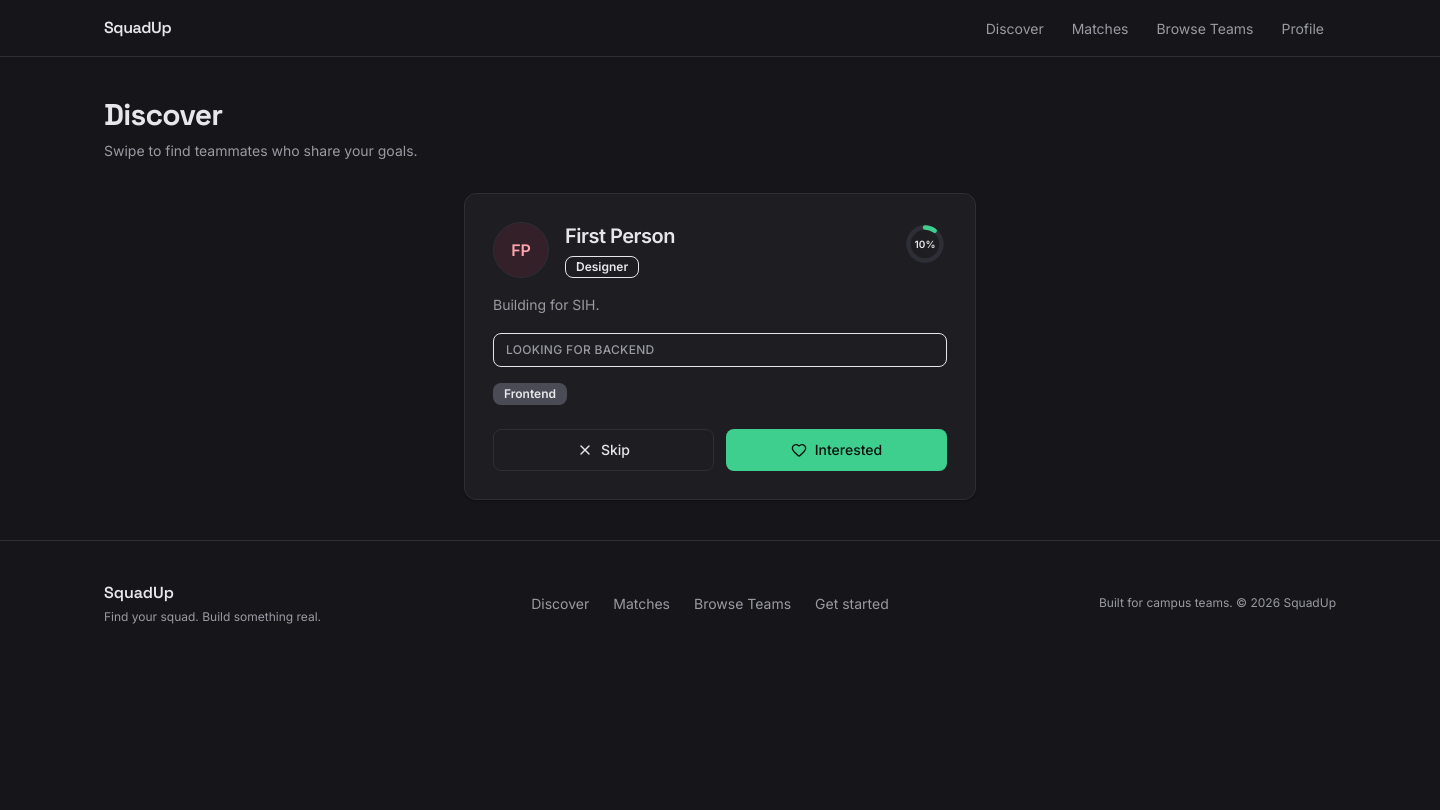
Scenario: Discover page › swiping records the action and advances the stack
expect the heading "First Person" is shown: met, box left=565, top=224, right=675, bottom=248
Click the button "Interested".
click(836, 450)  # box left=726, top=429, right=947, bottom=471
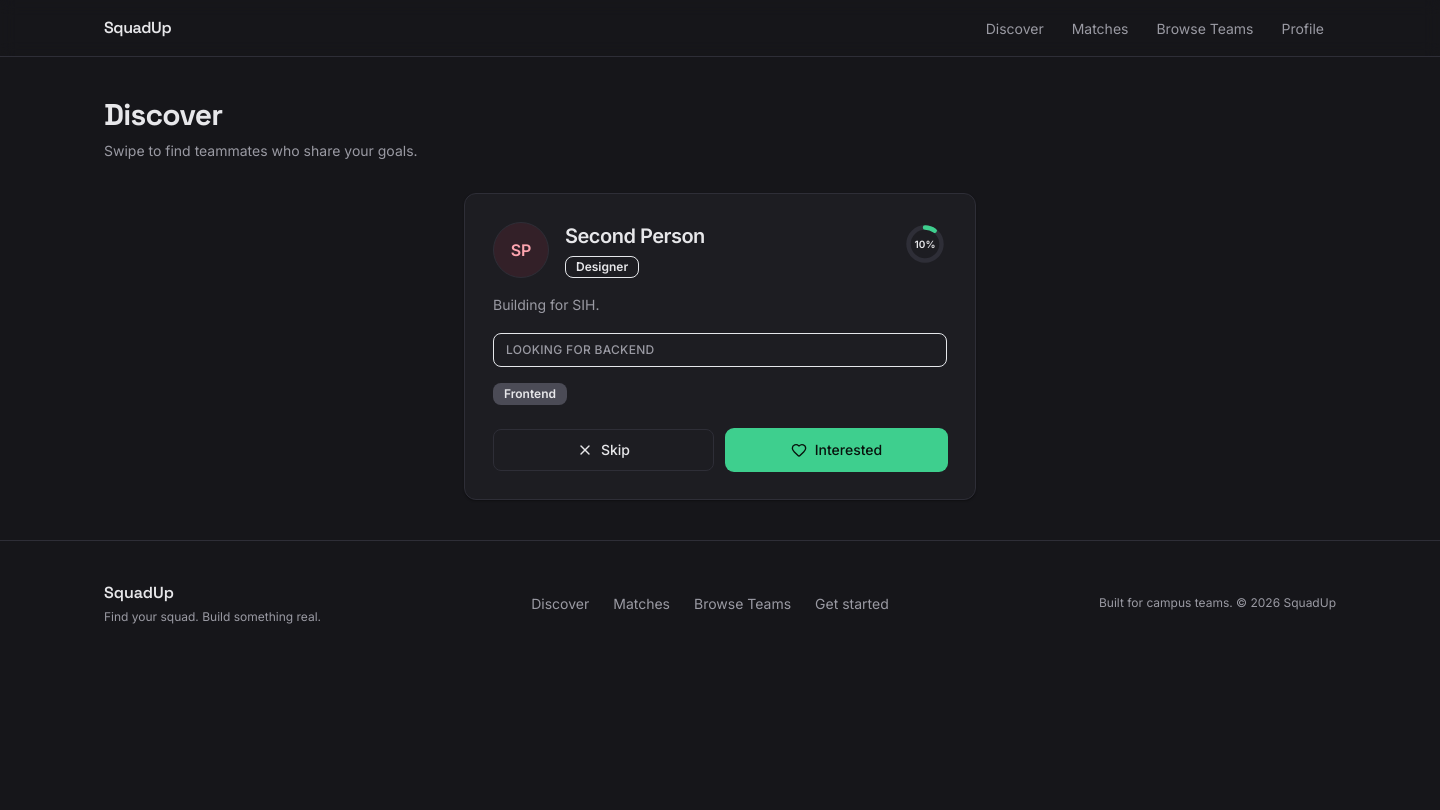
expect the heading "Second Person" is shown: met, box left=565, top=224, right=705, bottom=248
